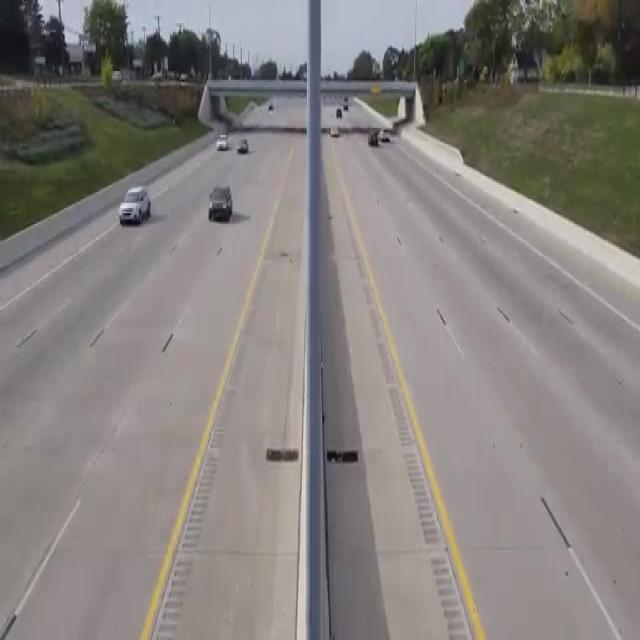car: (196, 174, 245, 226), (115, 180, 151, 246), (357, 112, 382, 156), (212, 125, 232, 162), (234, 132, 251, 165), (379, 125, 396, 152), (325, 115, 343, 140)
